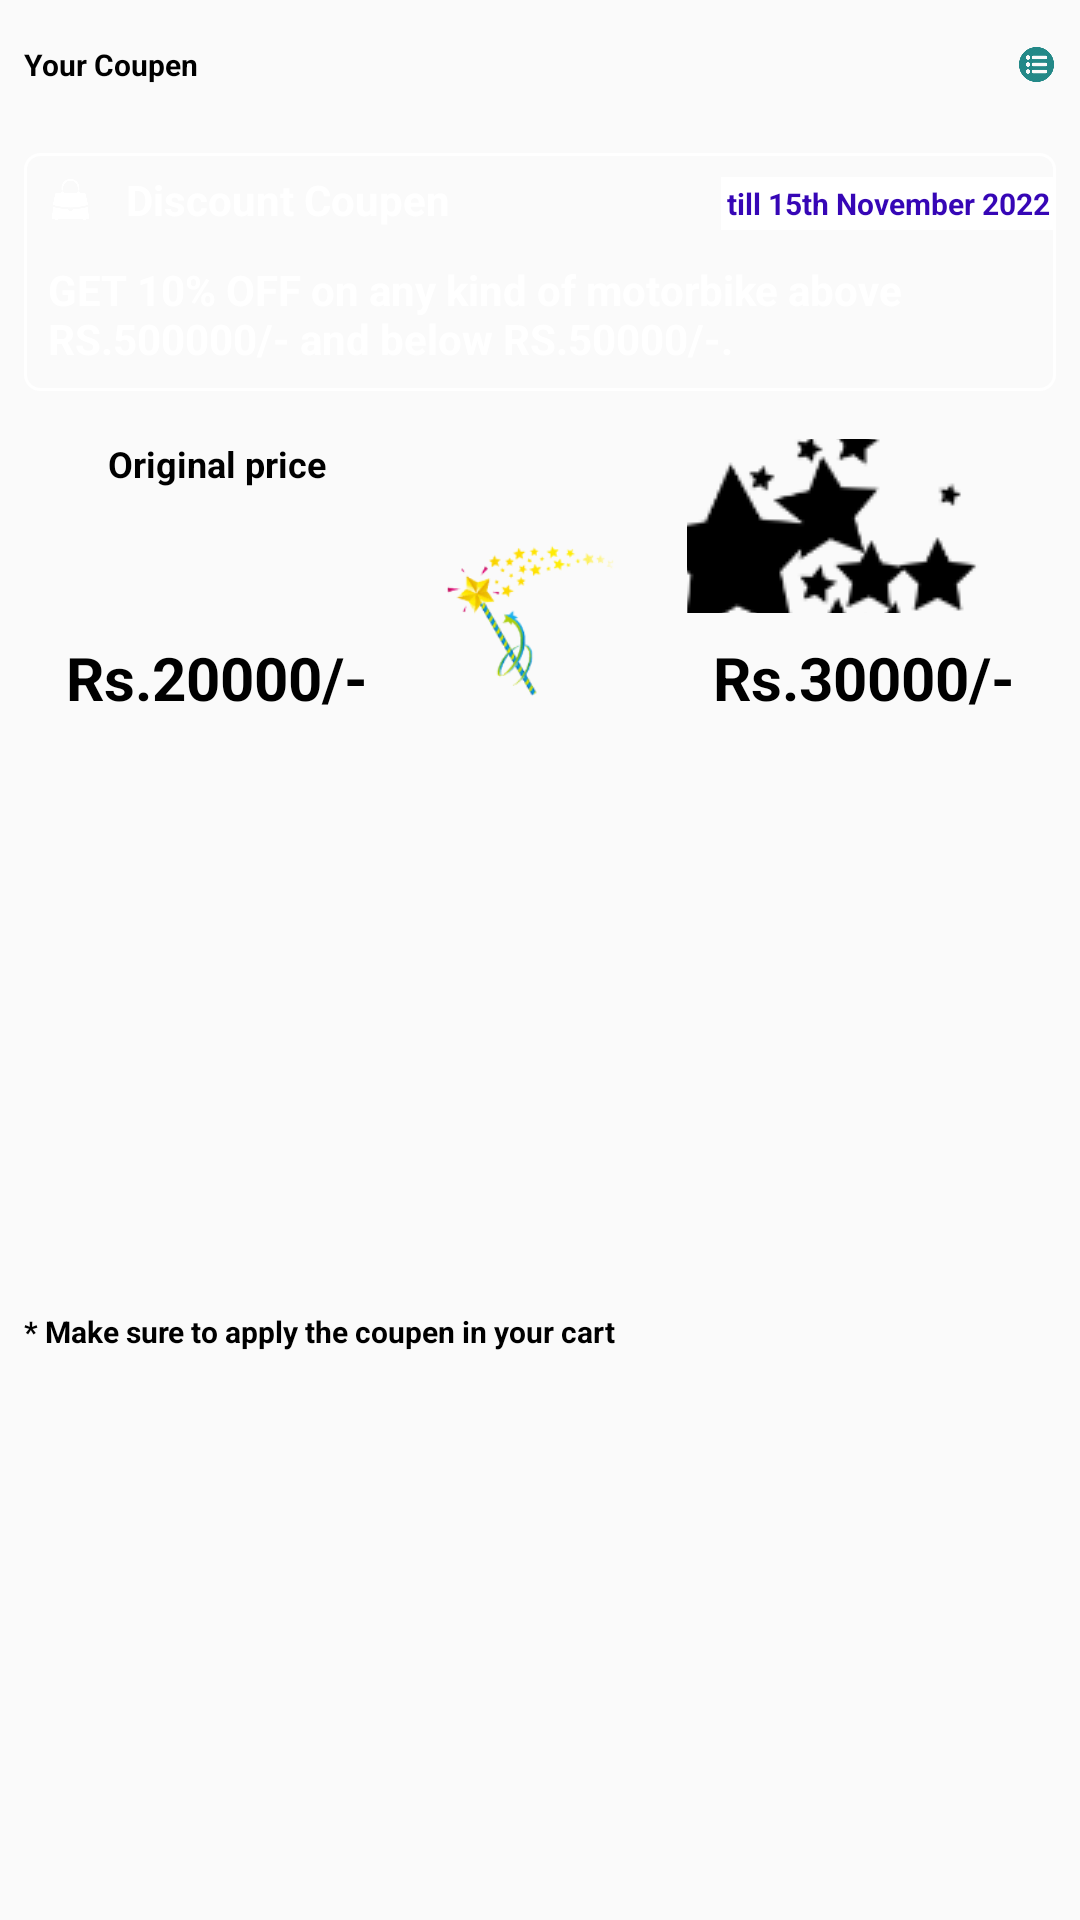

Screen size 1080 × 1920. Icon name, then its box in pixels as {"x1": x1, "y1": y1, "x2": x2, "y2": y2}:
magic stick: {"x1": 447, "y1": 546, "x2": 613, "y2": 696}
